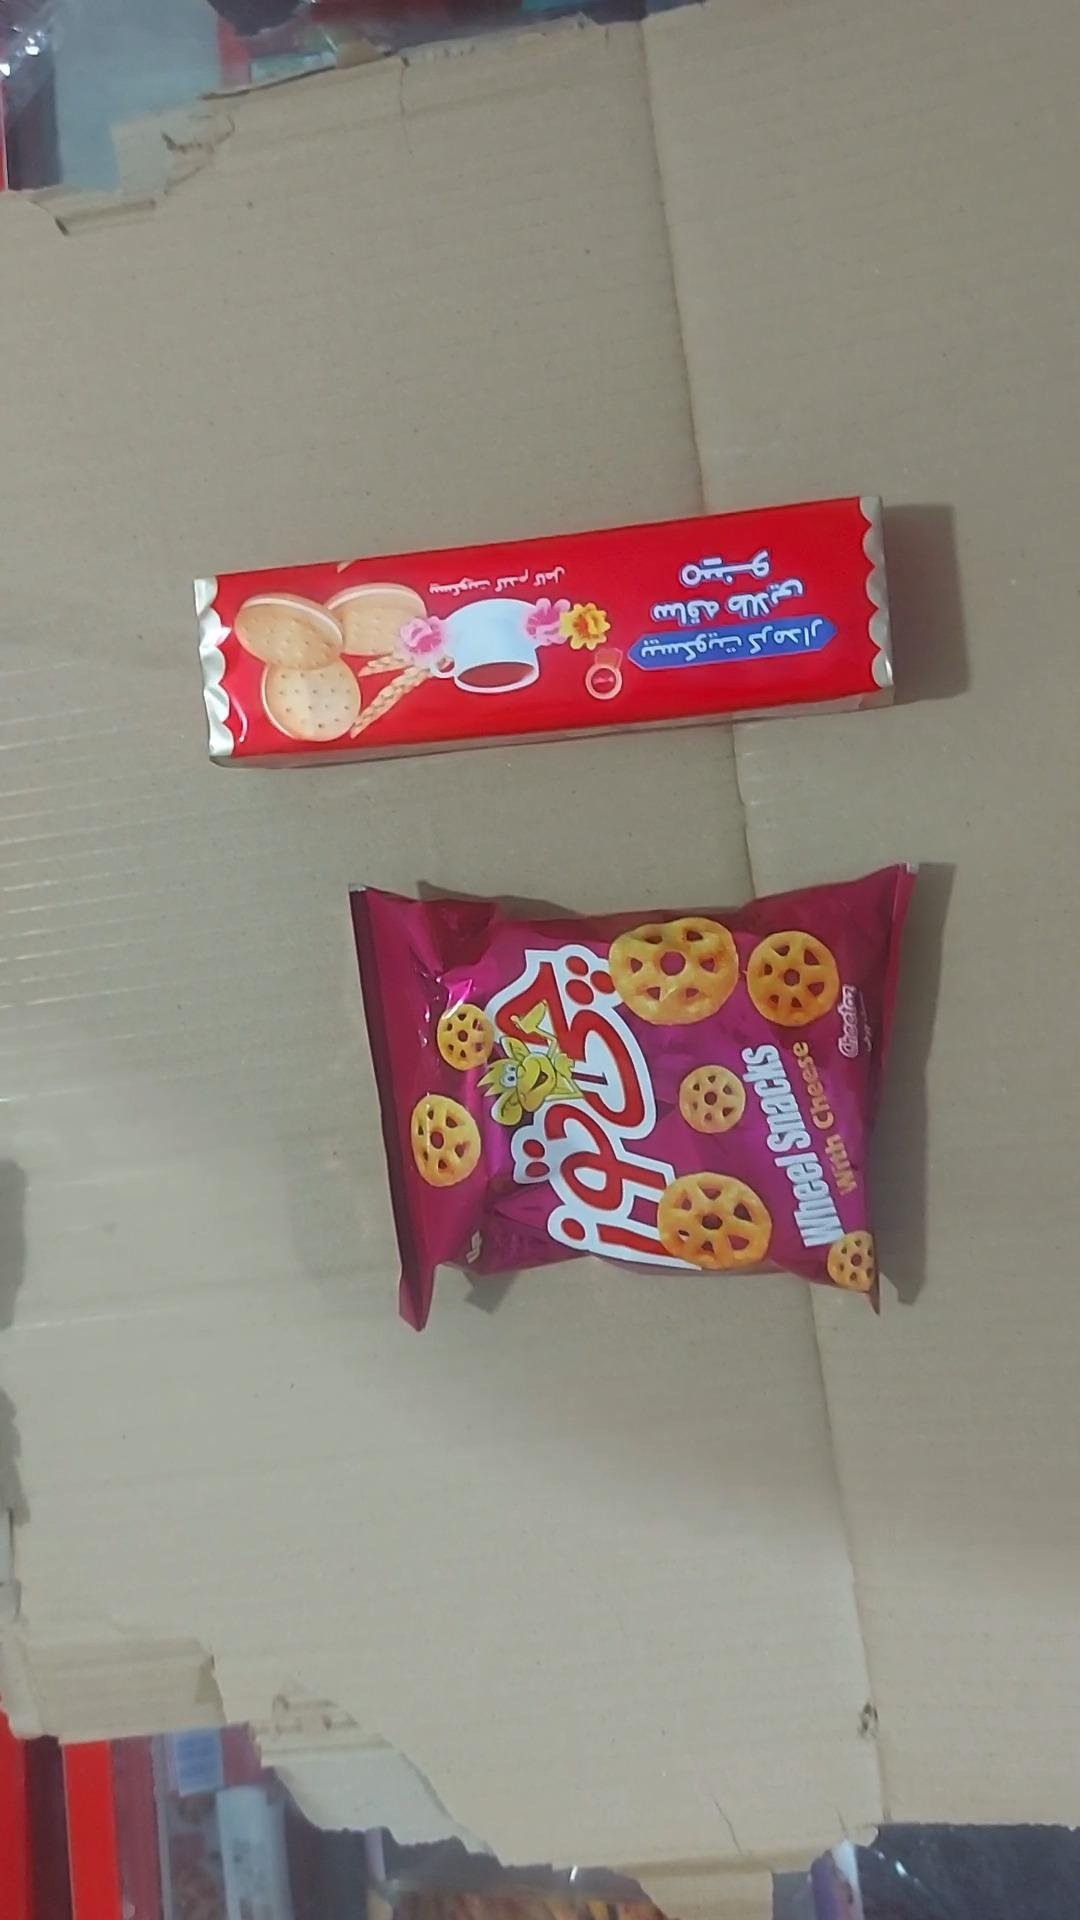Cheetoz wheelsnack: (351, 866, 910, 1329)
Minoo cream biscuit: (195, 498, 891, 765)
